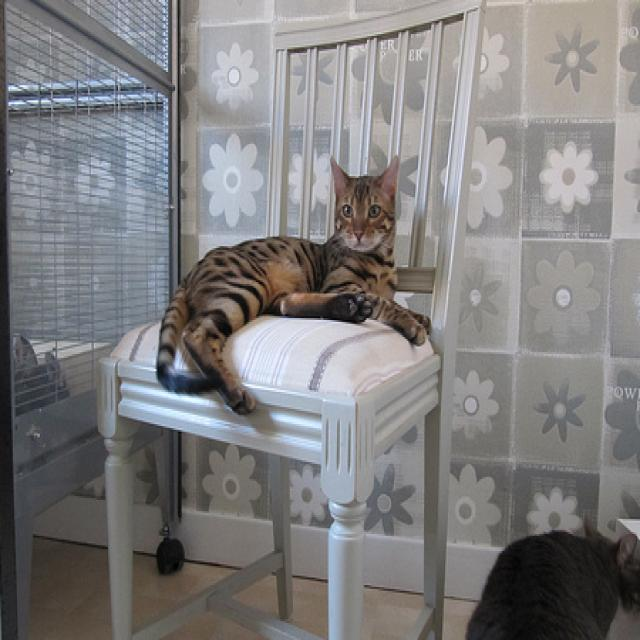Bengal: (157, 158, 437, 427)
